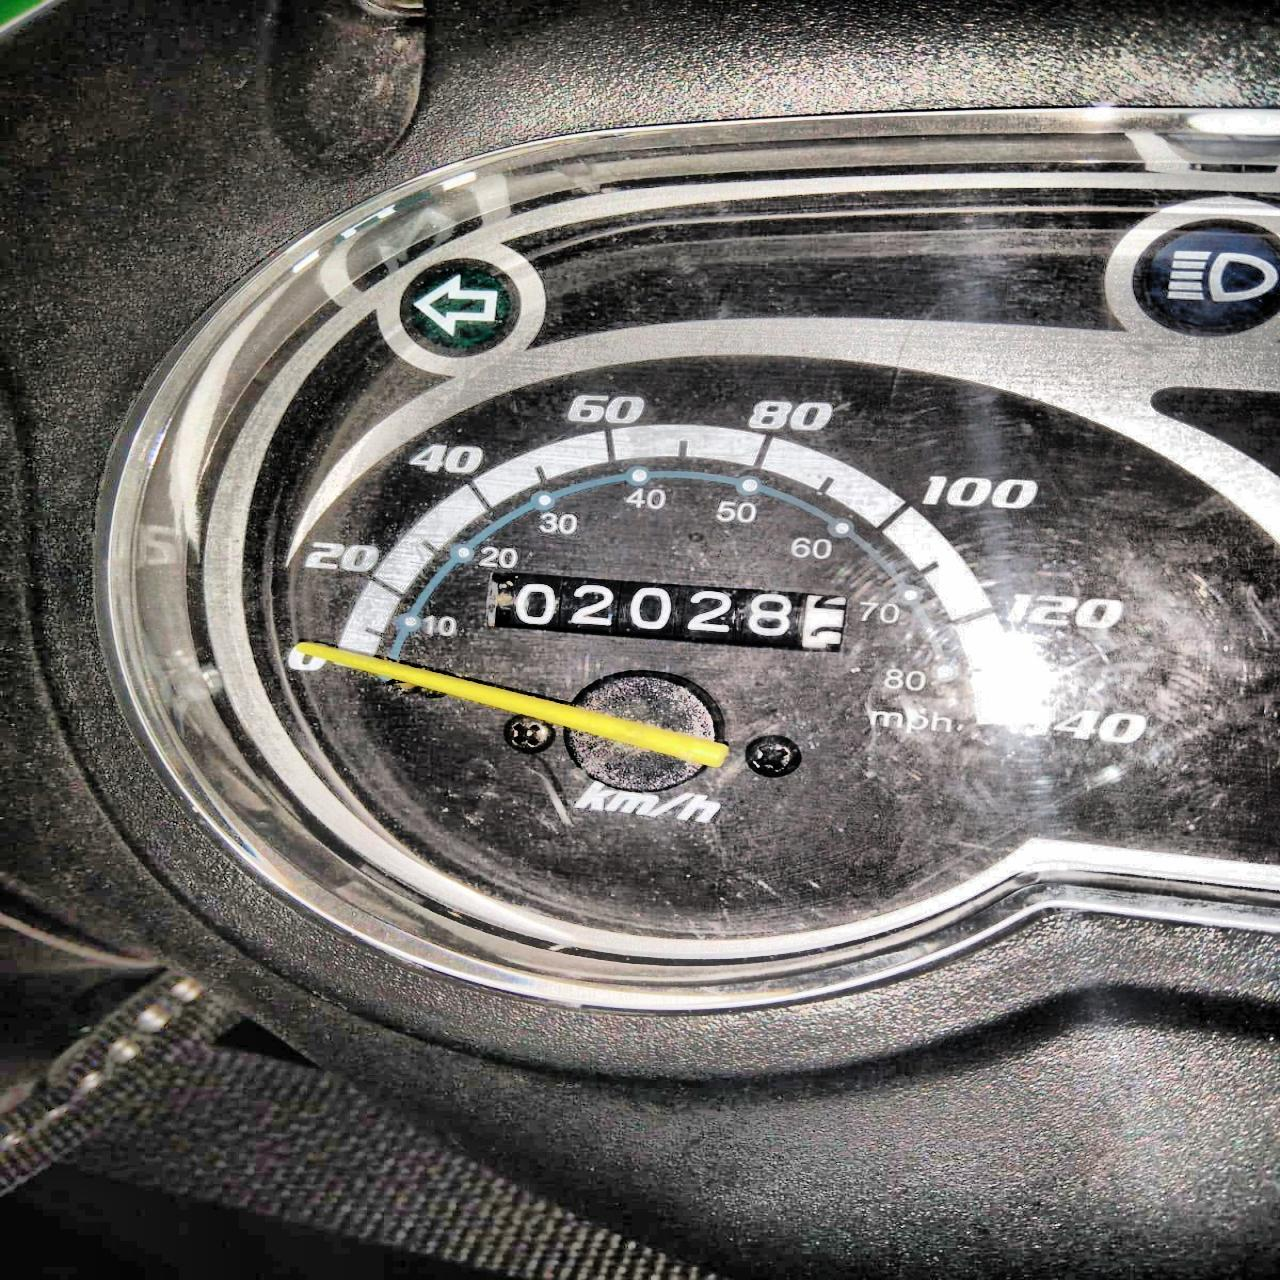0: (512, 579, 557, 627), (628, 584, 673, 631)
2: (567, 580, 614, 629), (687, 586, 734, 634)
3: (808, 621, 850, 654)
8: (748, 590, 798, 641)
odometer: (493, 568, 856, 656)
